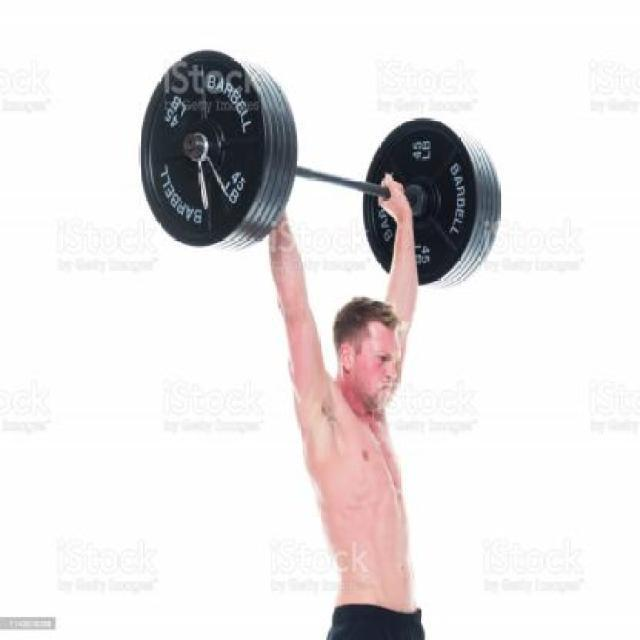barbell: (140, 40, 306, 266)
